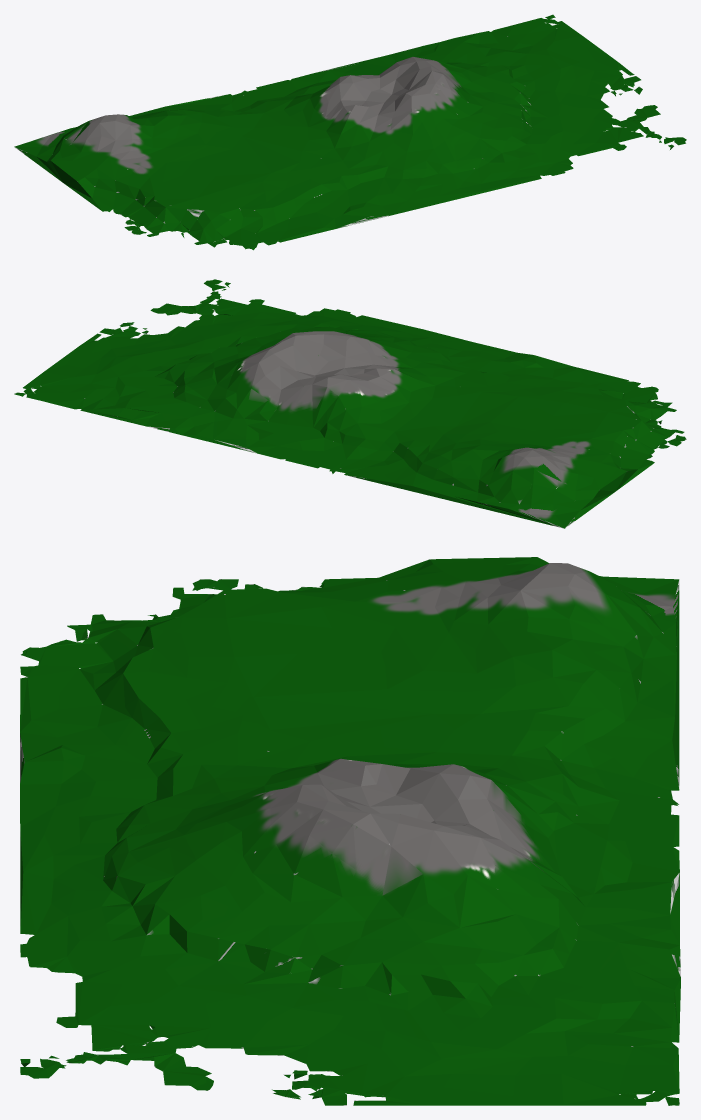
Rendered from terrainBeta1.obj.
The picture shows the model from 3 angles, top to bottom: view 1: azimuth 30°, elevation 25°; view 2: azimuth 150°, elevation 25°; view 3: azimuth 270°, elevation 25°; orthographic projection. The views are drawn at different scales.
Visible parts, largest first — view 1: ImageToStl.com_iaminhell; view 2: ImageToStl.com_iaminhell; view 3: ImageToStl.com_iaminhell.
Part boxes in pixels (box(x1,y1,x2,y2)): ImageToStl.com_iaminhell: box(14, 14, 686, 250); ImageToStl.com_iaminhell: box(14, 279, 686, 528); ImageToStl.com_iaminhell: box(20, 557, 680, 1105).
Size of the model in its own units: 100 by 9.5 by 53.22.
1 material, 1 textured.
